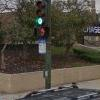Traffic light: (28, 3, 67, 52)
